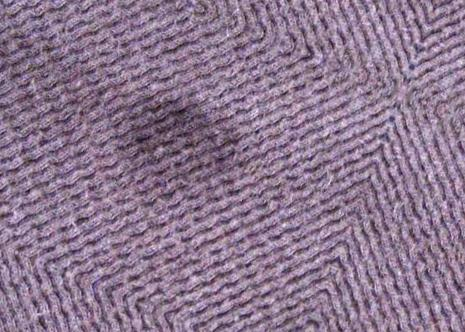stain: (123, 99, 247, 192)
